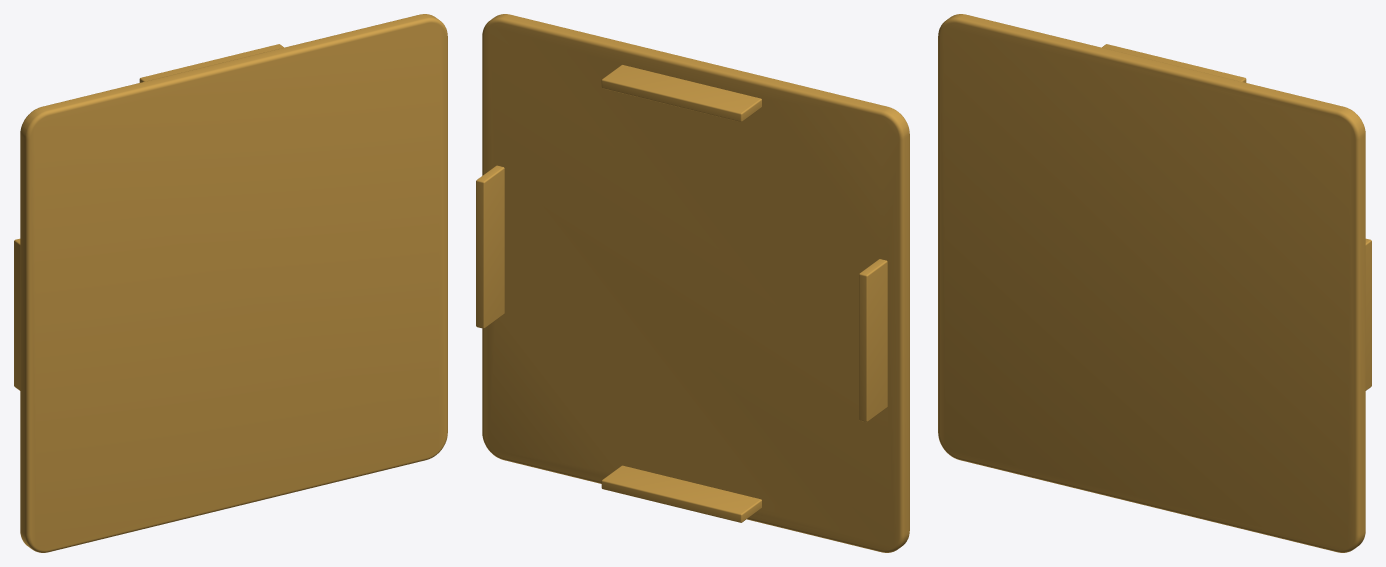
Rendered from SHR.glb.
3 renders of one model, left to right at view 1: azimuth 30°, elevation 25°; view 2: azimuth 150°, elevation 25°; view 3: azimuth 330°, elevation 25°, orthographic.
Visible parts, largest first — view 1: SHR_Snow; view 2: SHR_Snow; view 3: SHR_Snow.
Part boxes in pixels (box(x1,y1,x2,y2)): SHR_Snow: box(14, 14, 447, 552); SHR_Snow: box(476, 14, 909, 552); SHR_Snow: box(938, 14, 1371, 552).
Bounding box in the file's own units: 96 × 96 × 11.4.
